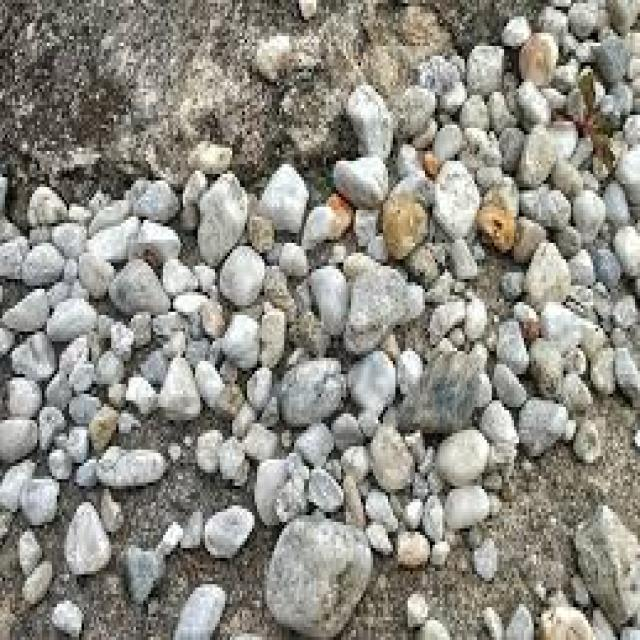Pecahan Agregat: (30, 58, 628, 610)
